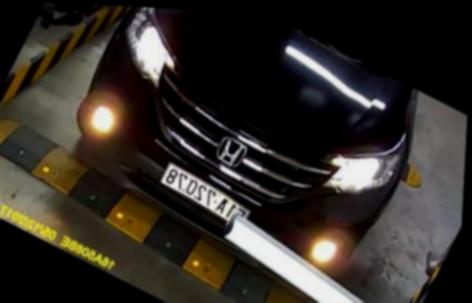License_Plate: (155, 163, 258, 231)
